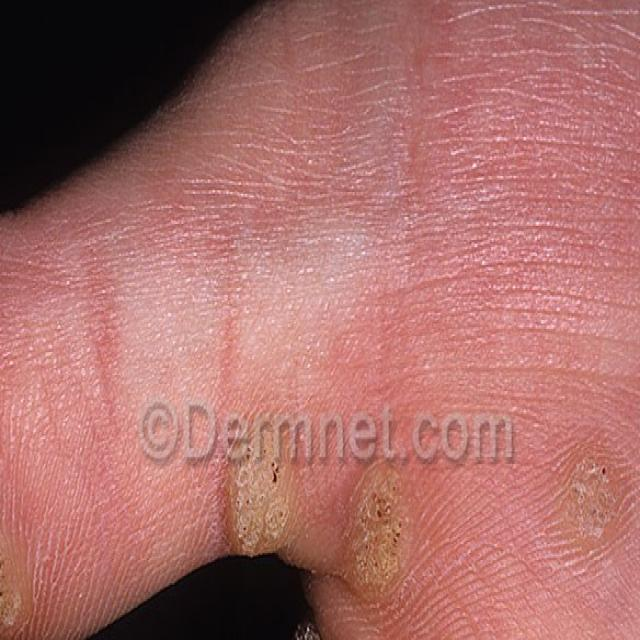Warts: (212, 406, 310, 581), (334, 441, 435, 608), (560, 432, 624, 601), (0, 523, 41, 633)
